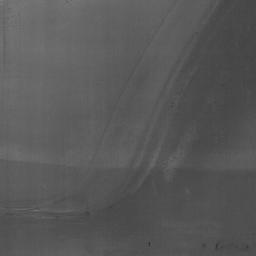Crease: (13, 17, 217, 216), (94, 0, 190, 159)
